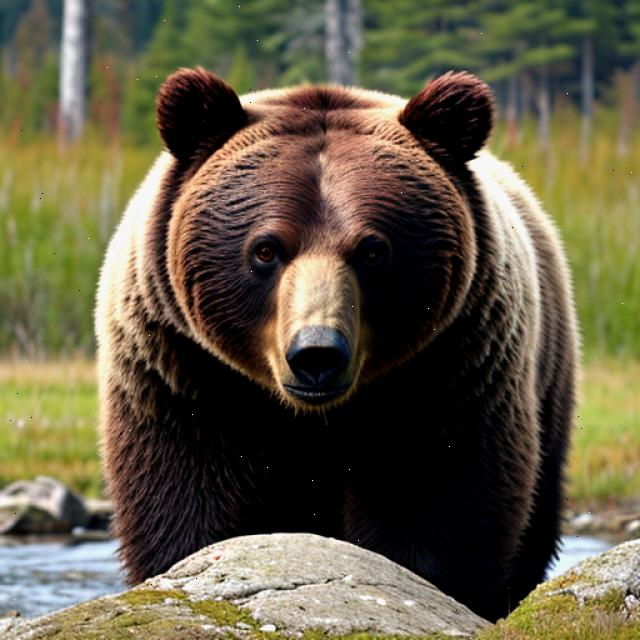bear: (71, 29, 624, 588)
